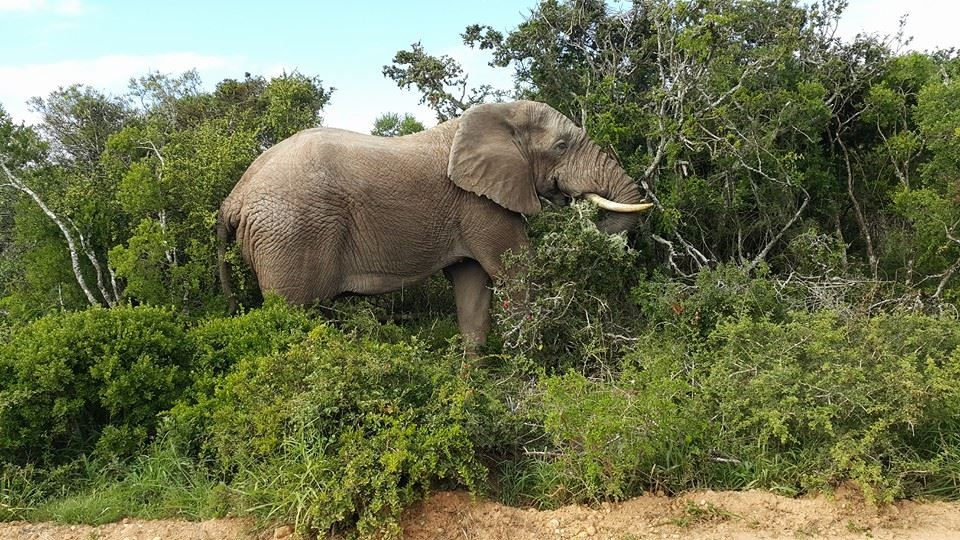elephant: (428, 237, 879, 514)
